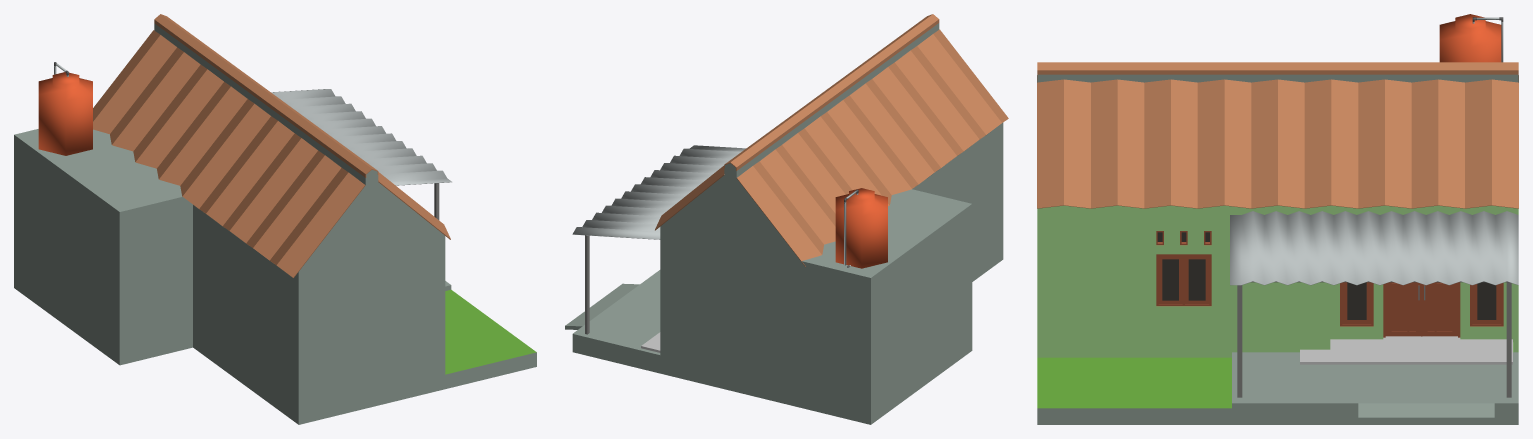
The model's file is House_Type_2_2.fbx.
The picture shows the model from 3 angles, left to right: view 1: azimuth 30°, elevation 25°; view 2: azimuth 150°, elevation 25°; view 3: azimuth 270°, elevation 25°; orthographic projection. The views are drawn at different scales.
Parts seen in each view (by area): view 1: House_Type_2_2_LOD0; view 2: House_Type_2_2_LOD0; view 3: House_Type_2_2_LOD0.
Part boxes in pixels (bbox=[...]): House_Type_2_2_LOD0: bbox=[14, 14, 536, 424]; House_Type_2_2_LOD0: bbox=[565, 14, 1008, 424]; House_Type_2_2_LOD0: bbox=[1037, 14, 1518, 424].
Size of what is drawn, in the model's own units: 900 by 622 by 1001.
